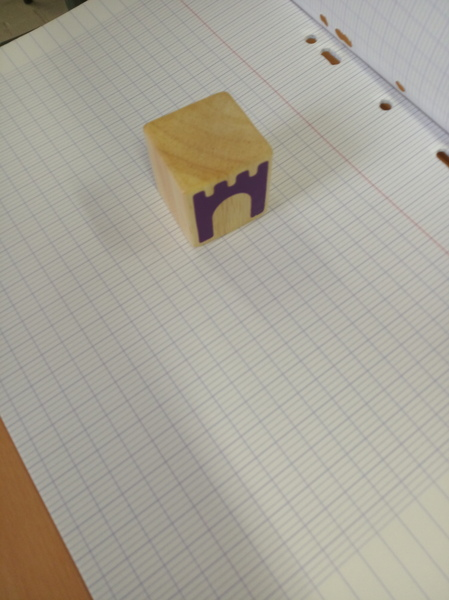violet: (149, 105, 275, 237)
